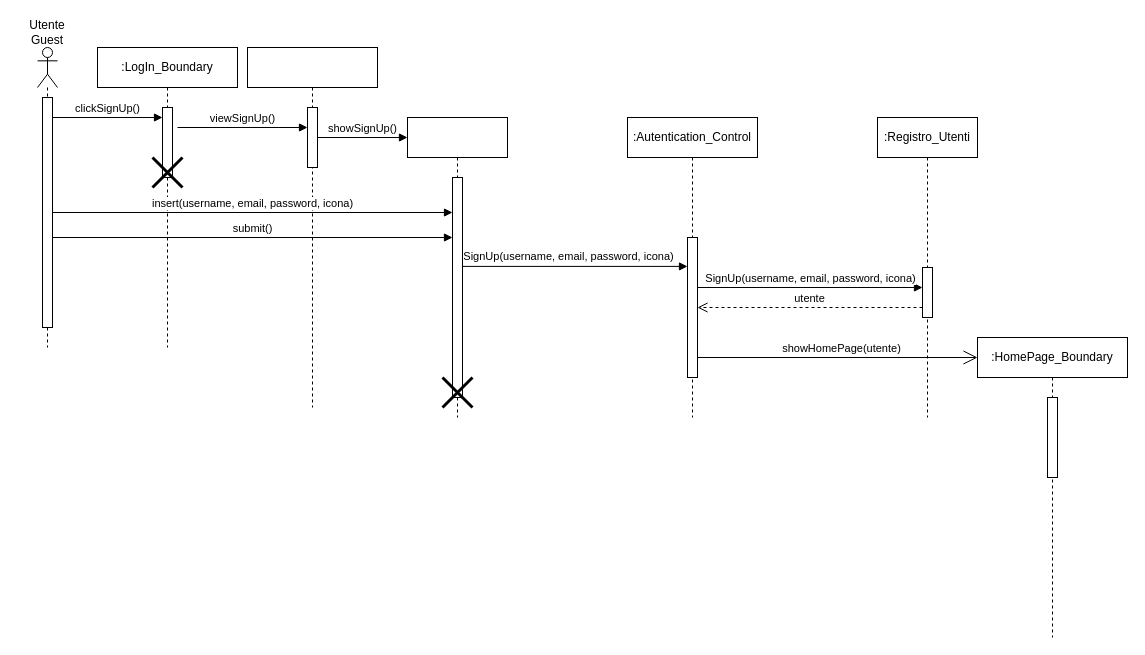
Image size: 1145x655. Some labels were removed from this diagram. The box of each missing label's shape, as (x1, y1, x2, y2) in pixels:
:SingUp_Boudary: (406, 116, 508, 418)
Autentication_Control: (246, 46, 378, 408)
